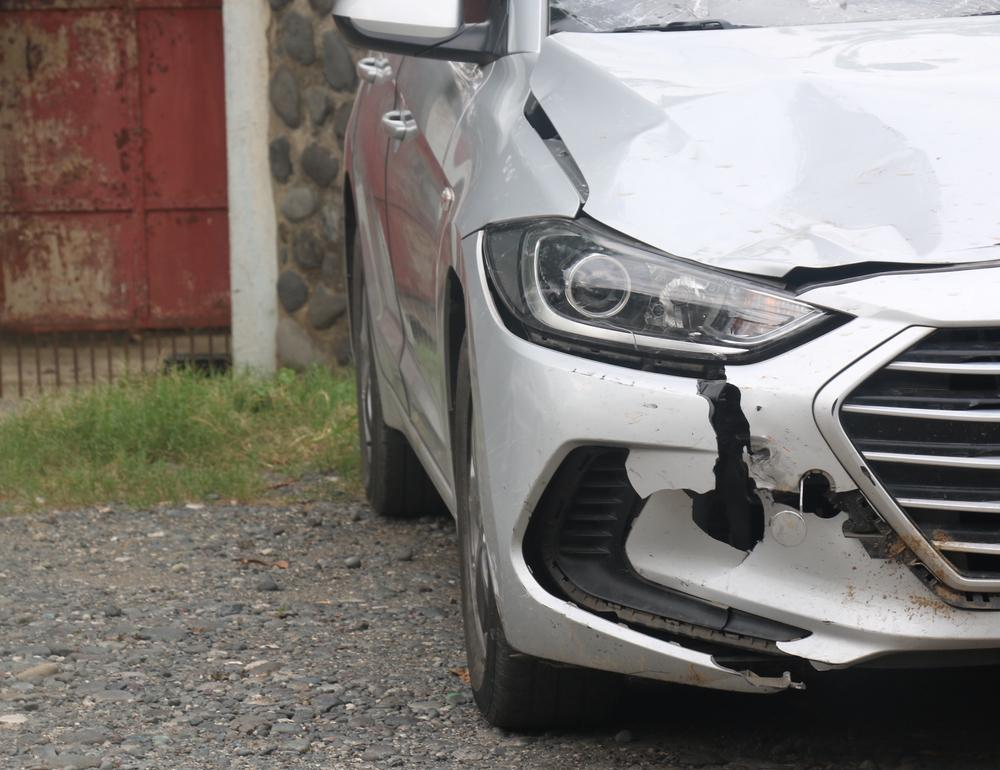crack: (684, 367, 847, 563), (711, 645, 821, 691)
dent: (603, 76, 939, 276)
